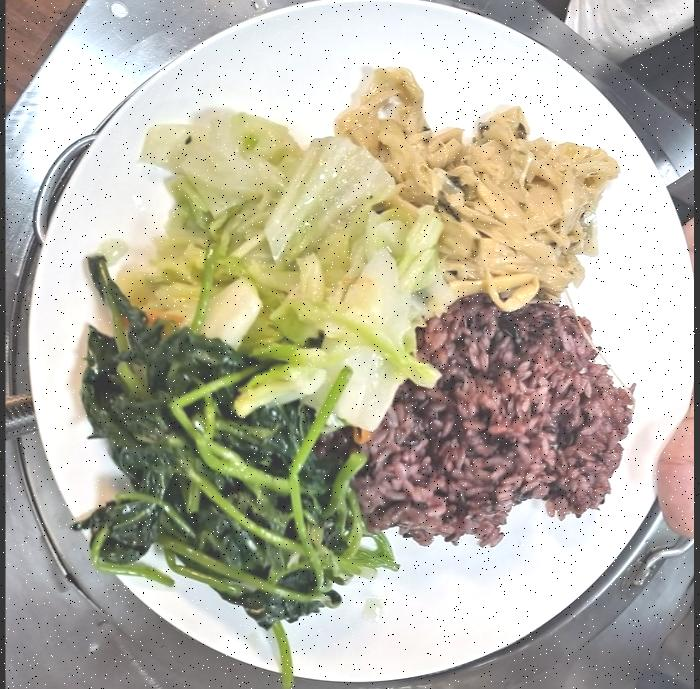plate: (24, 0, 691, 689)
purple rice: (362, 308, 642, 544)
side dish: (141, 110, 443, 425), (72, 314, 372, 624), (335, 74, 624, 304)
